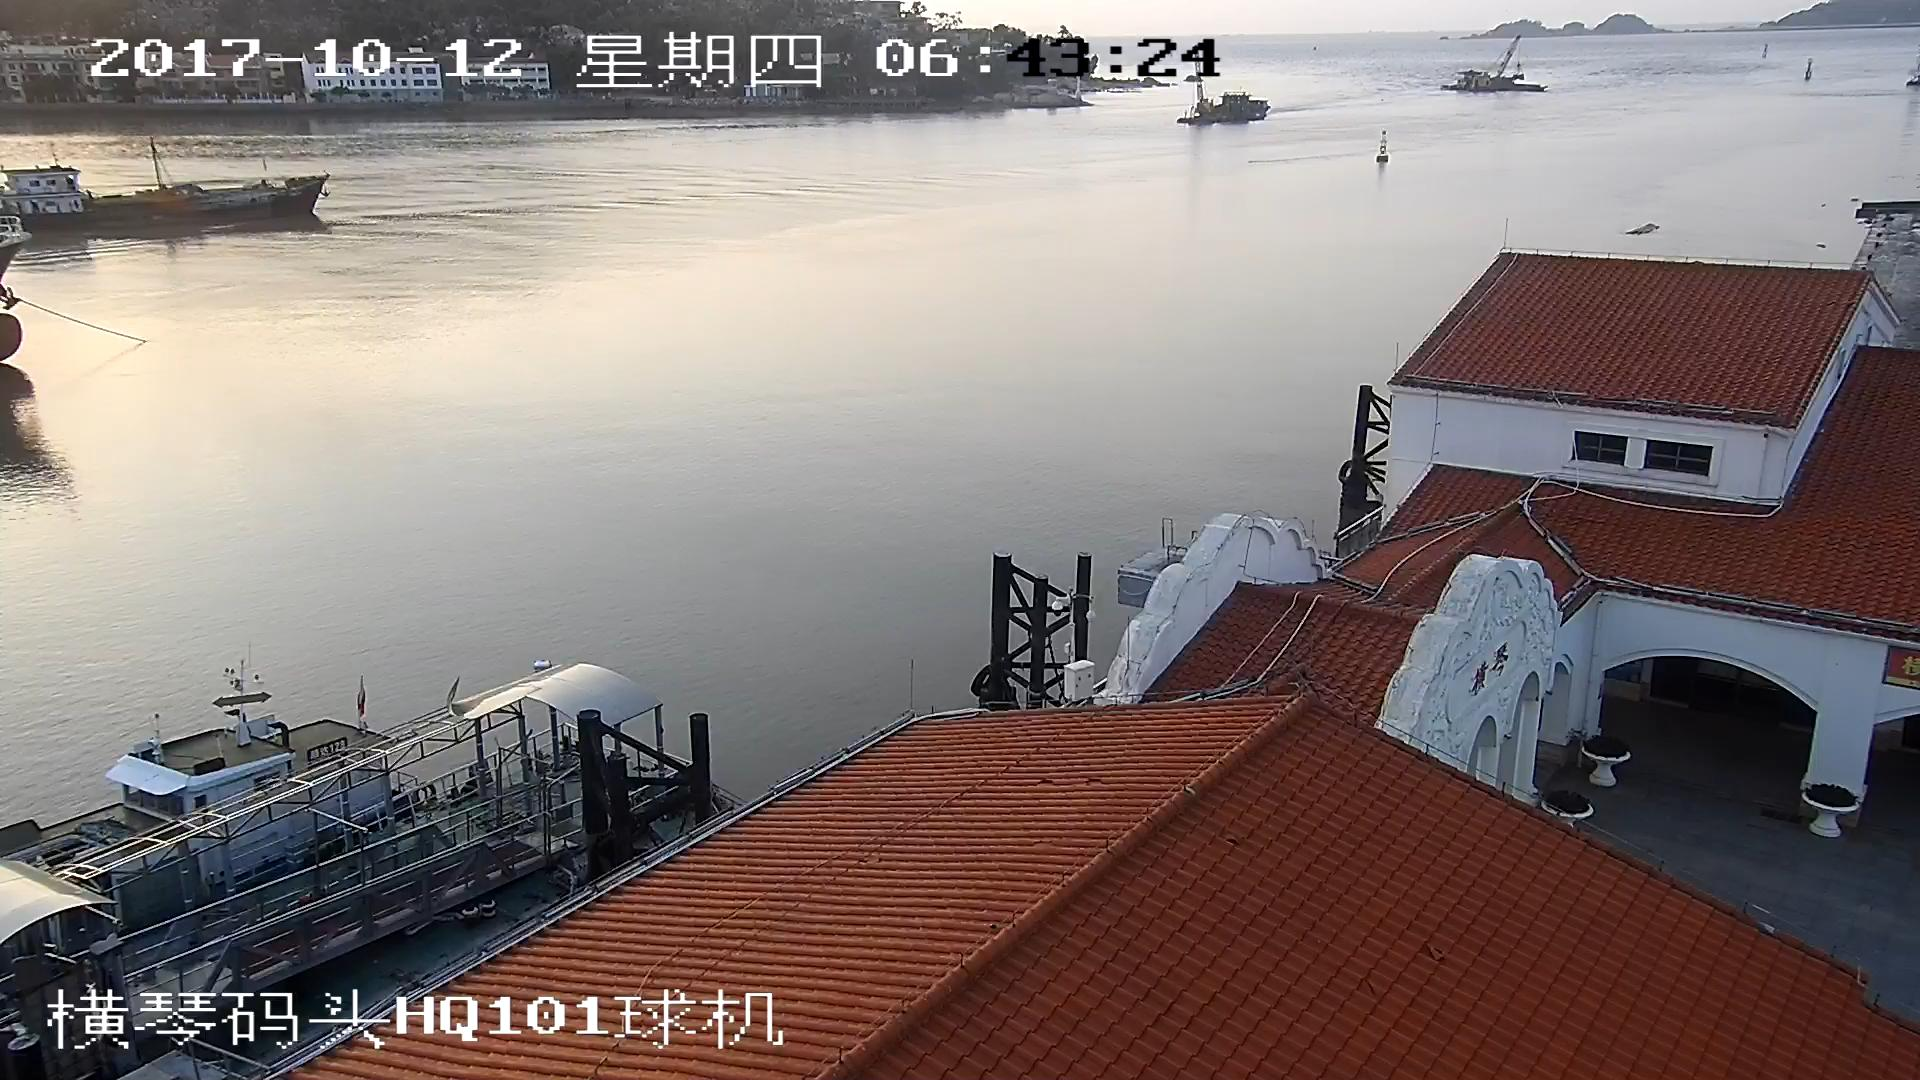fishing boat: (1, 155, 329, 219)
